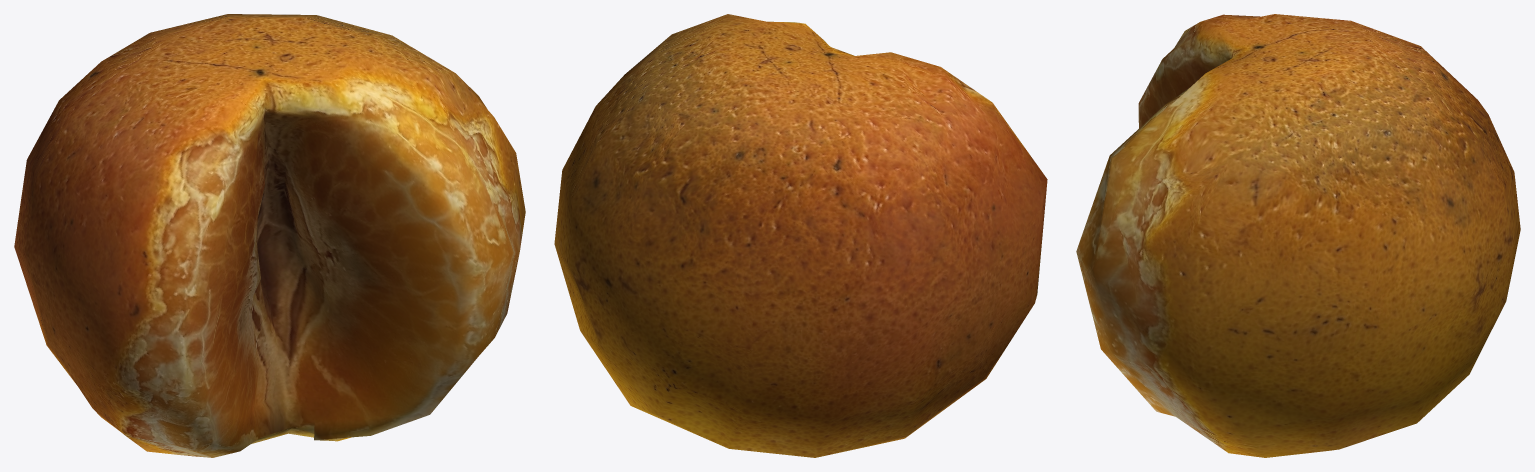
Rendered from A109_Orange_Peeled_low.fbx.
The picture shows the model from 3 angles, left to right: view 1: azimuth 30°, elevation 25°; view 2: azimuth 150°, elevation 25°; view 3: azimuth 270°, elevation 25°; orthographic projection. The views are drawn at different scales.
Visible parts, largest first — view 1: A109_Orange_Peeled_low; view 2: A109_Orange_Peeled_low; view 3: A109_Orange_Peeled_low.
Boxes of the visible parts, box(x1,y1,x2,y2) form: A109_Orange_Peeled_low: box(14, 14, 525, 457); A109_Orange_Peeled_low: box(554, 14, 1047, 457); A109_Orange_Peeled_low: box(1076, 14, 1520, 457).
Bounding box in the file's own units: 8.21 × 7.71 × 7.06.
1 material, 1 textured.
